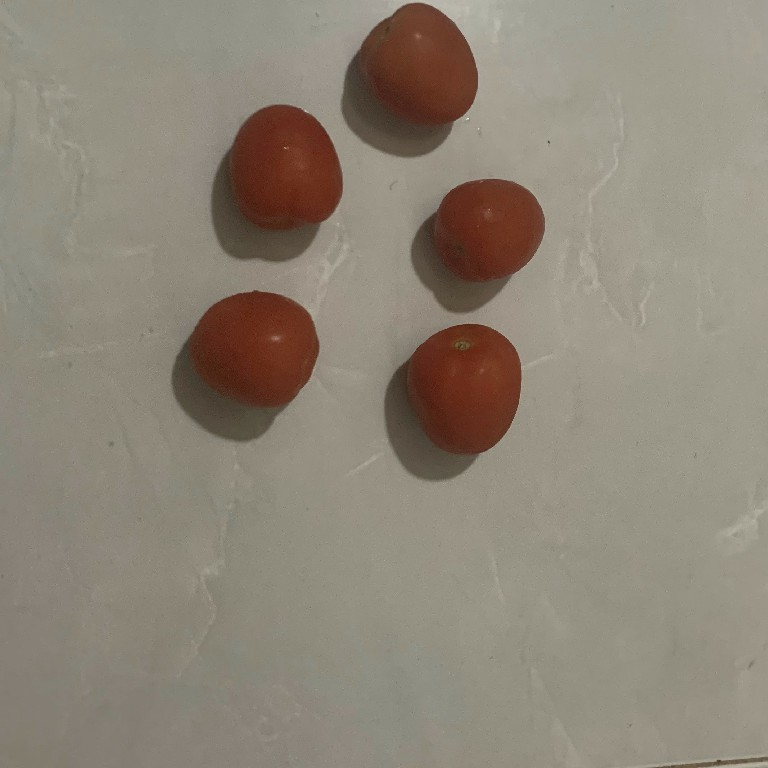OK: (185, 285, 321, 412), (402, 317, 522, 457), (222, 103, 346, 234), (363, 0, 485, 127), (434, 171, 548, 286)
